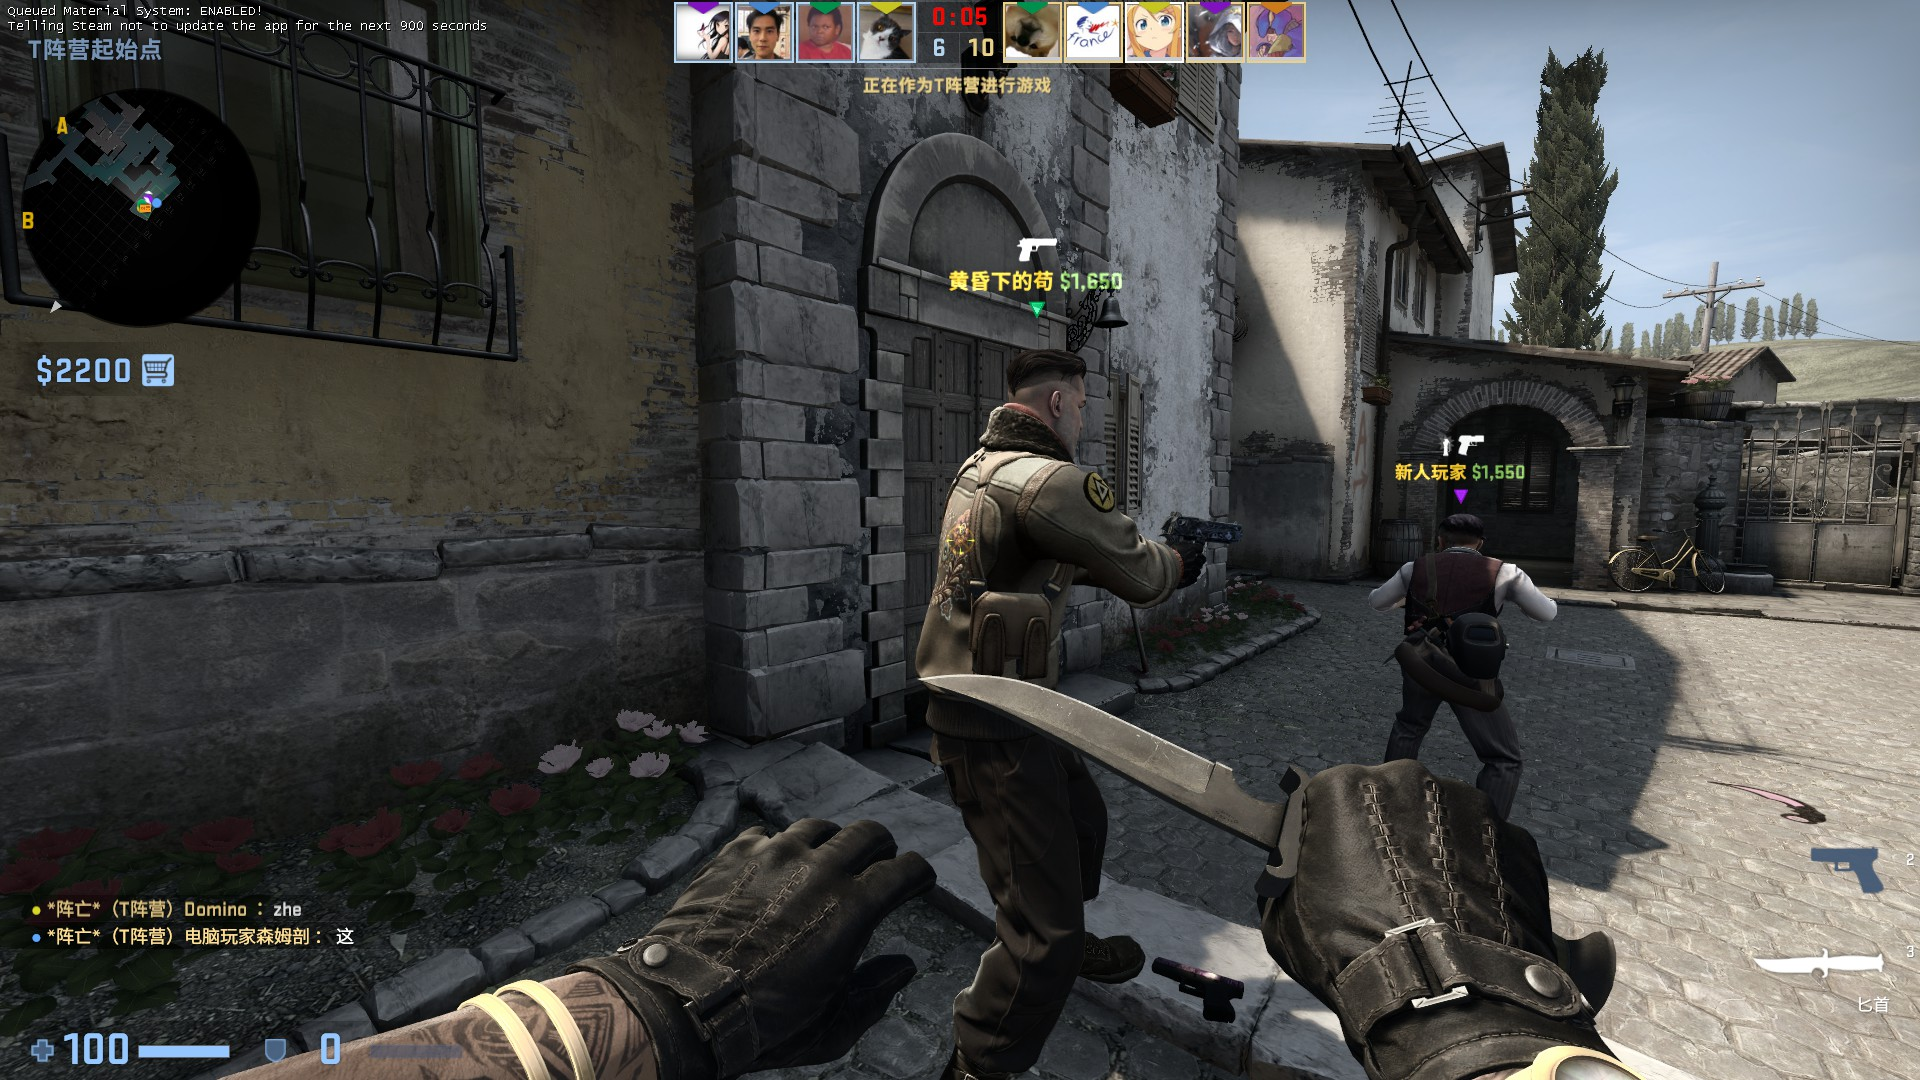head: (1001, 344, 1093, 456), (1436, 513, 1487, 556)
